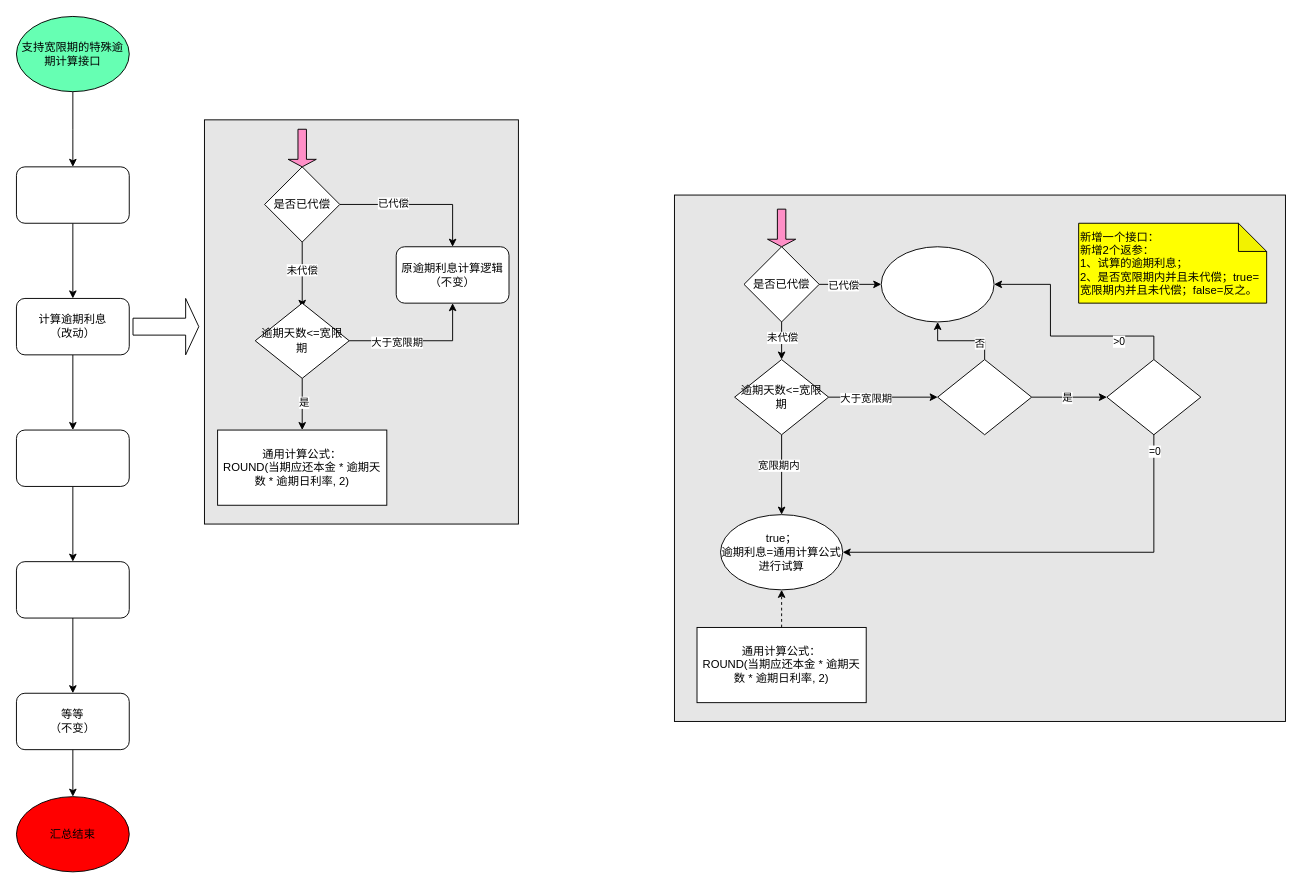
Some shapes in this 1302 by 888 pixel diagram are drawn without their labels. The shapes that lost their labels are listed below. From the top down, each one's centre as x and y in pixels, then its label:
At (72,194): "计算滞纳金 （不变）".
At (937,284): "false； 逾期利息=null".
At (984,397): "逾期利息从资方获取 & DLB资方".
At (1153,397): "从资方获取的逾期利息是否=0".
At (72,457): "计算逾期服务费 （不变）".
At (72,589): "计算逾期担保服务费 （不变）".
